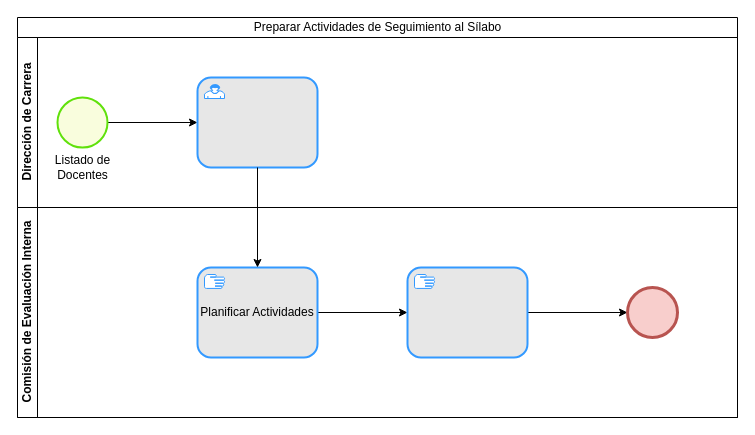
This 755x435 diagram has some shape labels left out. Here are the shapes that lost their labels. From the top down, the centre of each, then its label:
At point 257,122: "Notificar a los Docentes Asignados".
At point 467,312: "Socializar Actividades a Realizar entre Asignados".
